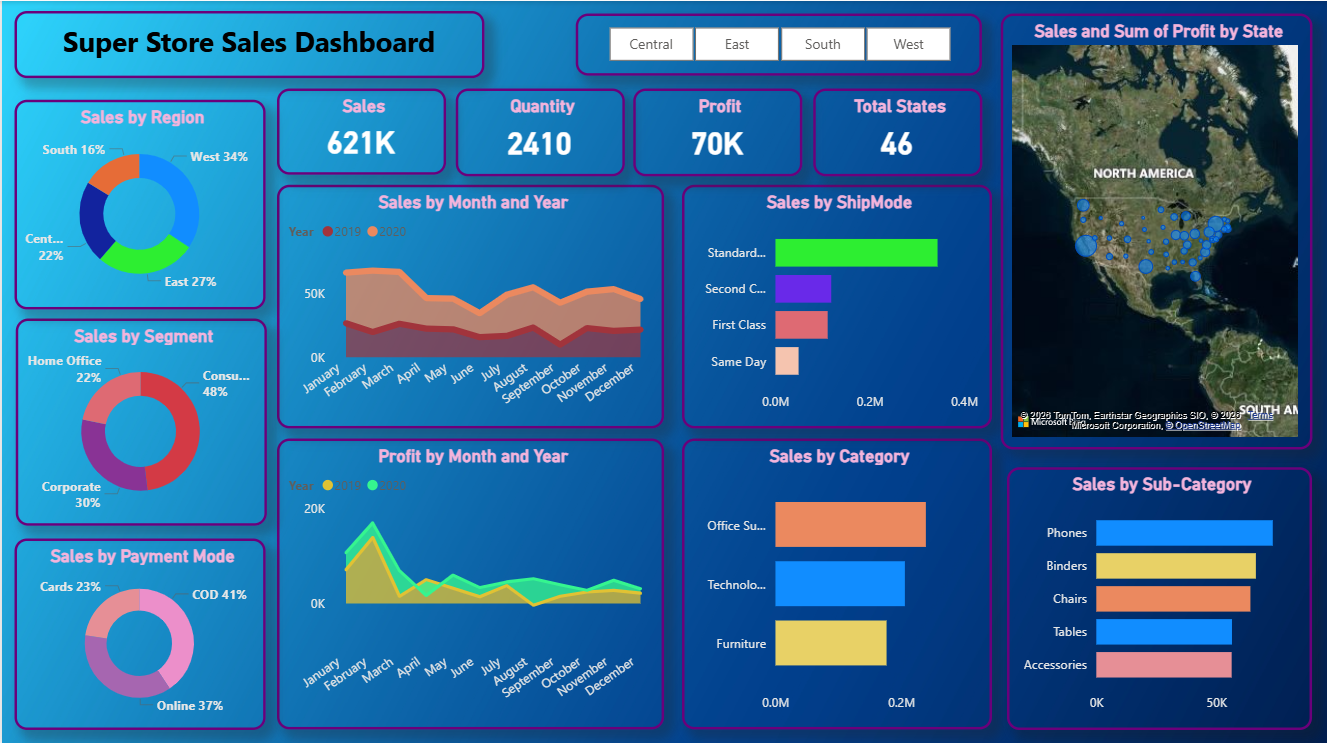

The page's visual inventory and layout, read from the dashboard file:
{"tool":"powerbi","page":{"name":"Page 1","canvas":[1280,720],"ordinal":0},"visuals":[{"type":"clusteredBarChart","title":"Sales by Category","fields":{"Category":["SuperStore_Sales_Dataset.Category"],"Y":["Sum(SuperStore_Sales_Dataset.Sales)"]},"box":[656.3,422.3,299.2,281.1],"z":0},{"type":"clusteredBarChart","title":" Sales by Sub-Category","fields":{"Category":["SuperStore_Sales_Dataset.Sub-Category"],"Y":["Sum(SuperStore_Sales_Dataset.Sales)"]},"box":[970,450,294.4,253.4],"z":1000},{"type":"clusteredBarChart","title":"Sales by ShipMode","fields":{"Category":["SuperStore_Sales_Dataset.Ship Mode"],"Y":["Sum(SuperStore_Sales_Dataset.Sales)"]},"box":[656.3,177.3,299.2,235.3],"z":2000},{"type":"stackedAreaChart","title":"Sales by Month and Year","fields":{"Category":["SuperStore_Sales_Dataset.Order Date.Variation.Date Hierarchy.Month"],"Series":["SuperStore_Sales_Dataset.Order Date.Variation.Date Hierarchy.Year"],"Y":["Sum(SuperStore_Sales_Dataset.Sales)"]},"box":[265.4,177.3,374,235.3],"z":3000},{"type":"stackedAreaChart","title":"Profit by Month and Year","fields":{"Category":["SuperStore_Sales_Dataset.Order Date.Variation.Date Hierarchy.Month"],"Series":["SuperStore_Sales_Dataset.Order Date.Variation.Date Hierarchy.Year"],"Y":["Sum(SuperStore_Sales_Dataset.Profit)"]},"box":[265.4,422.3,374,281.1],"z":4000},{"type":"map","title":"Sales and Sum of Profit by State","fields":{"Category":["SuperStore_Sales_Dataset.State"],"Size":["Sum(SuperStore_Sales_Dataset.Sales)"]},"box":[963.9,12.1,300.4,421],"z":5000},{"type":"donutChart","title":"Sales by Segment","fields":{"Category":["SuperStore_Sales_Dataset.Segment"],"Y":["Sum(SuperStore_Sales_Dataset.Sales)"]},"box":[13.3,306.4,242.5,200.3],"z":6000},{"type":"donutChart","title":" Sales by Payment Mode","fields":{"Category":["SuperStore_Sales_Dataset.Payment Mode"],"Y":["Sum(SuperStore_Sales_Dataset.Sales)"]},"box":[12.1,518.8,242.5,184.6],"z":7000},{"type":"slicer","fields":{"Values":["SuperStore_Sales_Dataset.Region"]},"box":[553.8,12.1,392.1,60.3],"z":8000},{"type":"textbox","box":[12.1,9.7,453.6,65.1],"z":9000},{"type":"card","title":"Sales","fields":{"Values":["Sum(SuperStore_Sales_Dataset.Sales)"]},"box":[265.4,84.5,162.9,83.2],"z":10000},{"type":"card","title":"Quantity","fields":{"Values":["CountNonNull(SuperStore_Sales_Dataset.Quantity)"]},"box":[437.9,84.5,162.9,84.5],"z":11000},{"type":"card","title":"Profit","fields":{"Values":["Sum(SuperStore_Sales_Dataset.Profit)"]},"box":[609.3,84.5,162.9,84.5],"z":12000},{"type":"card","title":"Total States","fields":{"Values":["Count(SuperStore_Sales_Dataset.State)"]},"box":[783,84.5,162.9,84.5],"z":13000},{"type":"donutChart","title":"Sales by Region","fields":{"Category":["SuperStore_Sales_Dataset.Region"],"Y":["Sum(SuperStore_Sales_Dataset.Sales)"]},"box":[12.1,95.3,242.5,202.7],"z":14000}]}

Visuals, with their boxes in screenshot pixels (x1, y1, x2, y2), scaled from the page's 1280x720 canvas onto the 1327x743 screenshot:
"Sales by Category" clusteredBarChart: {"left": 680, "top": 436, "right": 991, "bottom": 726}
" Sales by Sub-Category" clusteredBarChart: {"left": 1006, "top": 464, "right": 1311, "bottom": 726}
"Sales by ShipMode" clusteredBarChart: {"left": 680, "top": 183, "right": 991, "bottom": 426}
"Sales by Month and Year" stackedAreaChart: {"left": 275, "top": 183, "right": 663, "bottom": 426}
"Profit by Month and Year" stackedAreaChart: {"left": 275, "top": 436, "right": 663, "bottom": 726}
"Sales and Sum of Profit by State" map: {"left": 999, "top": 12, "right": 1311, "bottom": 447}
"Sales by Segment" donutChart: {"left": 14, "top": 316, "right": 265, "bottom": 523}
" Sales by Payment Mode" donutChart: {"left": 13, "top": 535, "right": 264, "bottom": 726}
slicer - SuperStore_Sales_Dataset.Region: {"left": 574, "top": 12, "right": 981, "bottom": 75}
textbox: {"left": 13, "top": 10, "right": 483, "bottom": 77}
"Sales" card: {"left": 275, "top": 87, "right": 444, "bottom": 173}
"Quantity" card: {"left": 454, "top": 87, "right": 623, "bottom": 174}
"Profit" card: {"left": 632, "top": 87, "right": 801, "bottom": 174}
"Total States" card: {"left": 812, "top": 87, "right": 981, "bottom": 174}
"Sales by Region" donutChart: {"left": 13, "top": 98, "right": 264, "bottom": 308}
